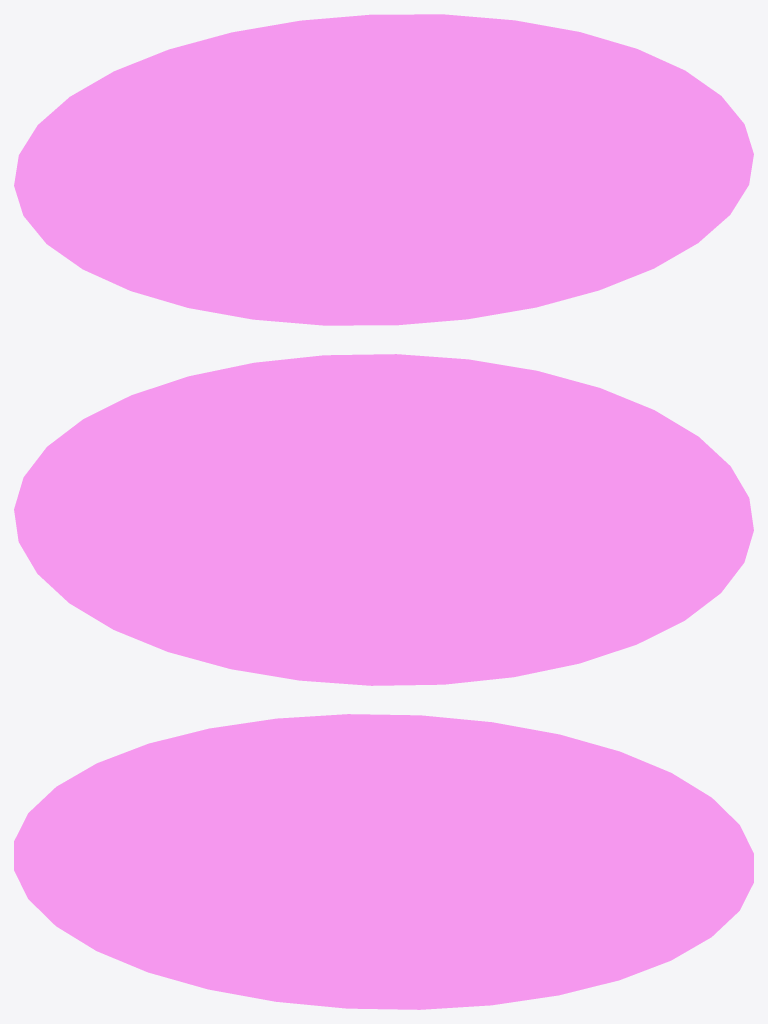
Rendered from fireplace.glb.
The picture shows the model from 3 angles, top to bottom: view 1: azimuth 30°, elevation 25°; view 2: azimuth 150°, elevation 25°; view 3: azimuth 270°, elevation 25°; orthographic projection.
Visible parts, largest first — view 1: Circle.001; view 2: Circle.001; view 3: Circle.001.
Boxes of the visible parts, box(x1,y1,x2,y2) form: Circle.001: box(14, 14, 753, 325); Circle.001: box(14, 354, 753, 685); Circle.001: box(14, 714, 753, 1009).
Bounding box in the file's own units: 1.99 × 0.0646 × 1.99.
